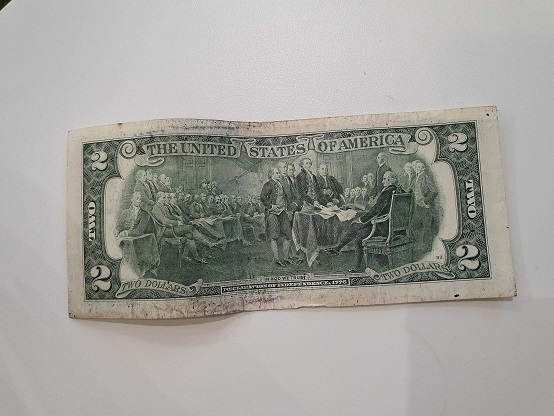2dollar: (67, 106, 519, 319)
